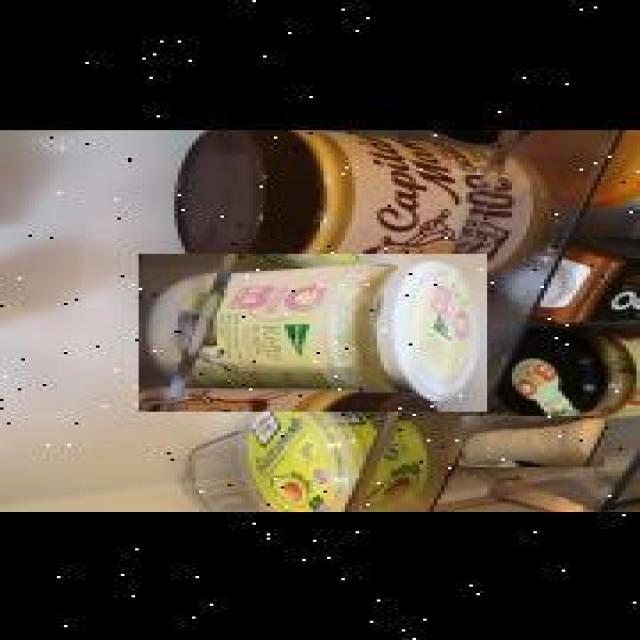guacamole: (247, 406, 418, 504)
yogurt: (139, 252, 487, 409), (526, 232, 640, 330), (462, 414, 604, 465)
